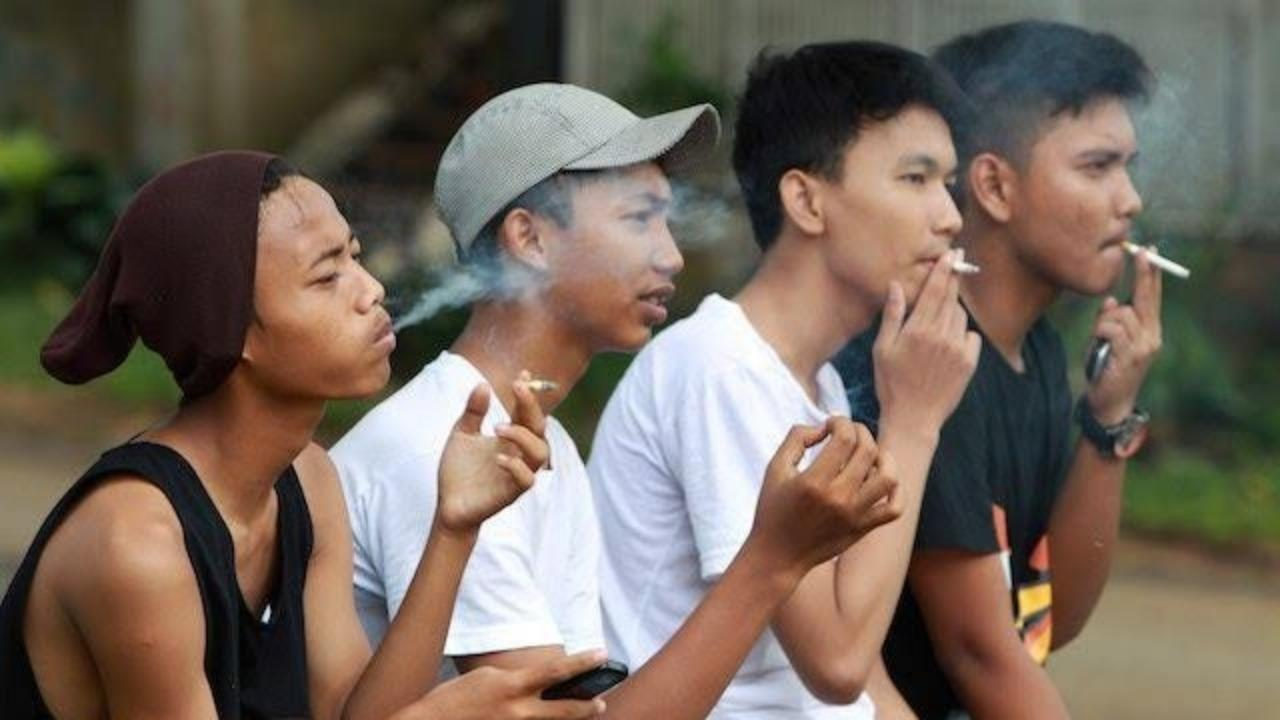cigarette: (1117, 238, 1193, 282), (516, 376, 564, 393), (946, 261, 990, 279)
